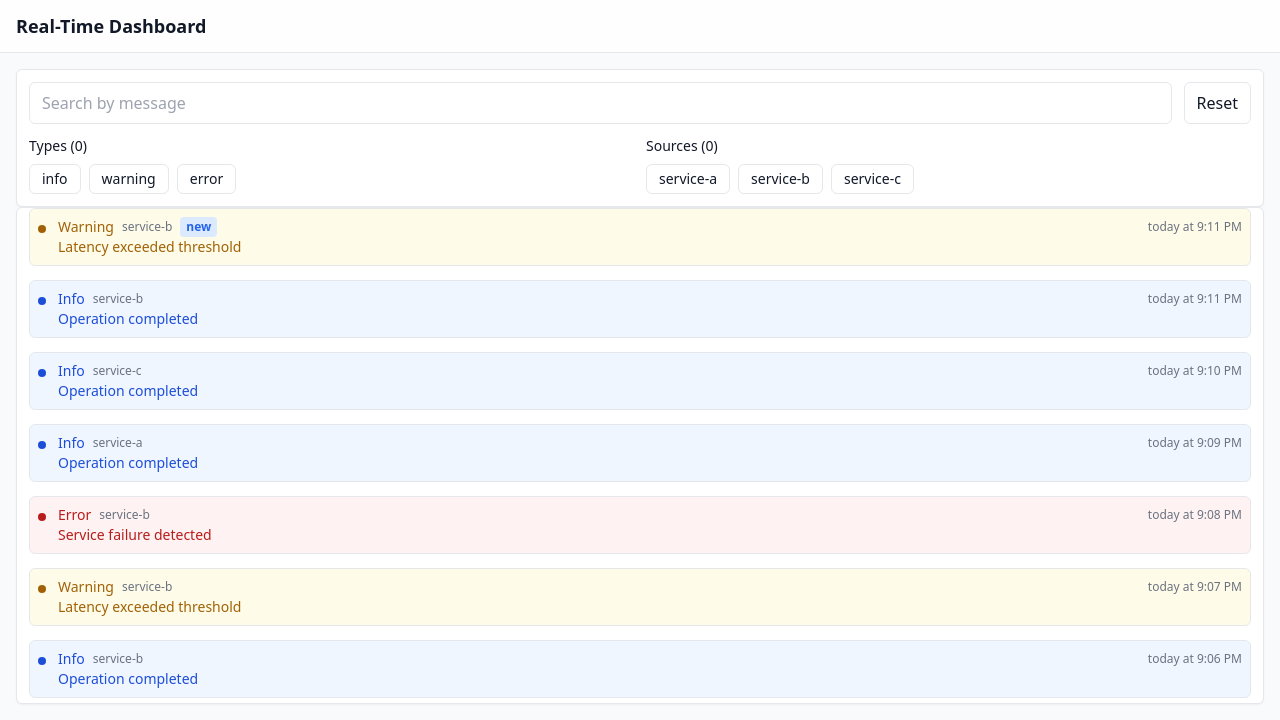
Test case: Real-time Updates › should handle rapid event updates
Note: Should be able to interact with events
Click the 1st button with test id "event-row" at (86, 227), box x1=29 y1=208 x2=1251 y2=266
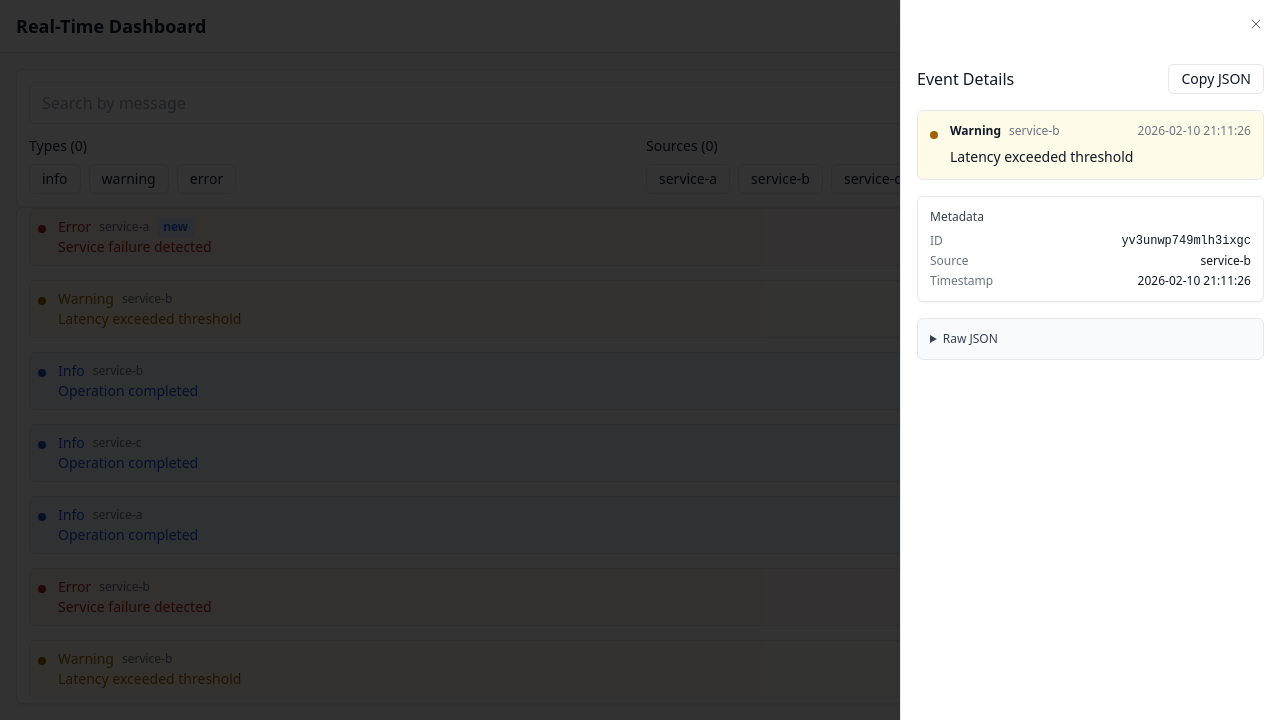
Expected: the dialog with test id "event-details-panel" is shown, x1=900 y1=0 x2=1279 y2=719
Expected: the element with test id "event-details" is shown, x1=917 y1=64 x2=1264 y2=360
